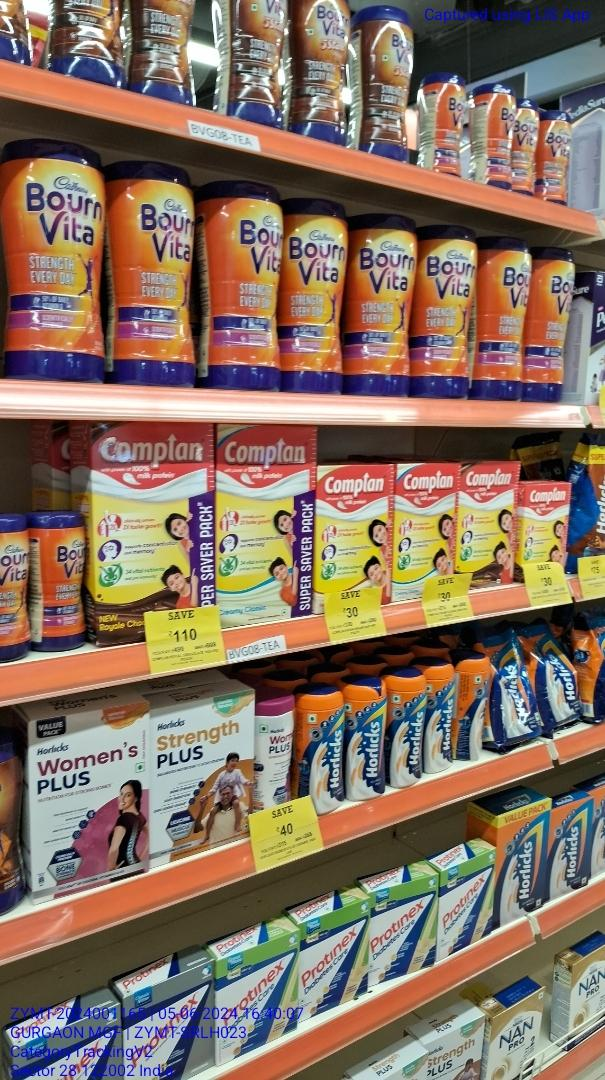BOURN_VITA_1_KG_JAR: (0, 137, 107, 380), (110, 153, 195, 391), (205, 179, 280, 394), (282, 199, 349, 391), (351, 211, 412, 396), (415, 222, 473, 399), (474, 233, 527, 401), (529, 245, 575, 402)
BOURN_VITA_200_G_JAR: (40, 510, 90, 648), (539, 109, 571, 203)
COMPLAN_CHOCOLATE_1_KG_PACK: (95, 420, 215, 608)
COMPLAN_CHOCOLATE_200_GMS_PACK: (520, 482, 568, 564)
COMPLAN_CHOCOLATE_500_GMS_PACK: (459, 463, 515, 586)
COMPLAN_CREAMY_CLASSIC_500_G_PACK: (397, 462, 455, 582)
COMPLAN_KESAR_BADAM_500_GMS_PACK: (319, 467, 393, 584)
HORLICK_CLASSIC_MALT_500_G_JAR: (302, 682, 342, 815), (346, 674, 385, 800), (387, 665, 422, 789), (426, 656, 454, 775)
HORLICK_CLASSIC_MALT_750_G_POUCH: (491, 632, 536, 747), (537, 625, 579, 727)
